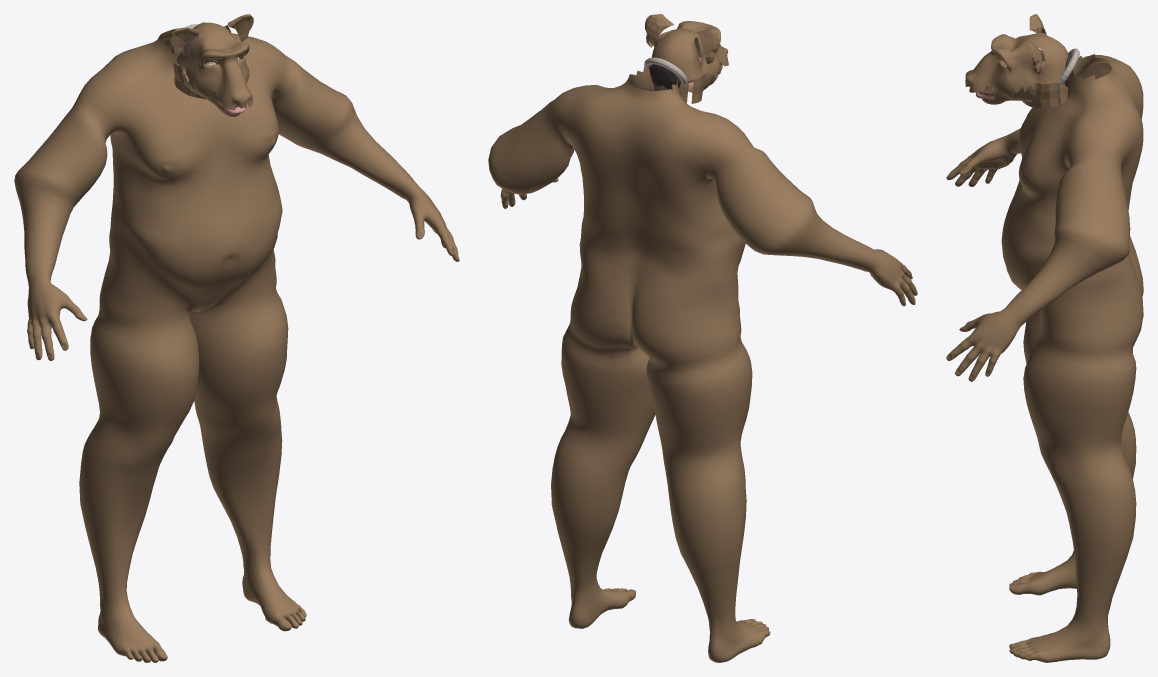
File: sen_composed.glb
3 renders of one model, left to right at view 1: azimuth 30°, elevation 25°; view 2: azimuth 150°, elevation 25°; view 3: azimuth 270°, elevation 25°, orthographic. The views are drawn at different scales.
Visible parts, largest first — view 1: SenBody, Sen_TissueHead, Sen_Jaw; view 2: SenBody, Sen_TissueHead; view 3: SenBody, Sen_TissueHead, Sen_Jaw, Sen_Ear_R, Sen_NeckSocket.
Part boxes in pixels (x1,y1,x2,y2): SenBody: (14, 28, 459, 662); Sen_TissueHead: (176, 22, 253, 110); Sen_Jaw: (173, 58, 239, 116); SenBody: (488, 67, 917, 662); Sen_TissueHead: (651, 21, 728, 102); SenBody: (946, 54, 1143, 662); Sen_TissueHead: (965, 33, 1068, 103); Sen_Jaw: (978, 60, 1058, 108); Sen_Ear_R: (1026, 41, 1042, 74); Sen_NeckSocket: (1057, 48, 1079, 88).
Bounding box in the file's own units: 1.09 × 1.54 × 0.4637.
